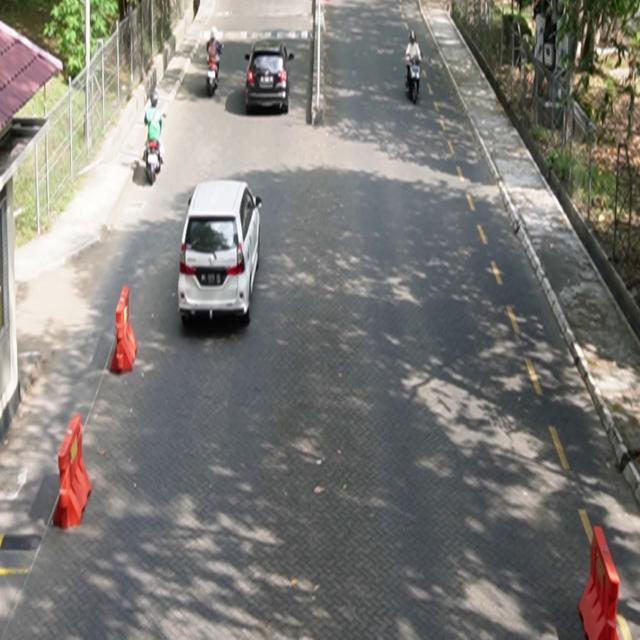car: (179, 180, 264, 327), (245, 39, 295, 115)
